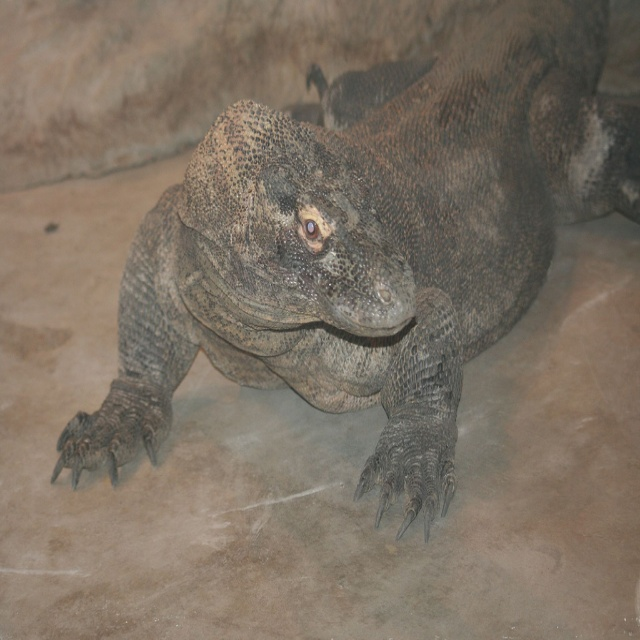Lizard: (38, 47, 589, 542)
